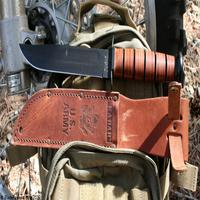knife: (16, 32, 188, 82)
